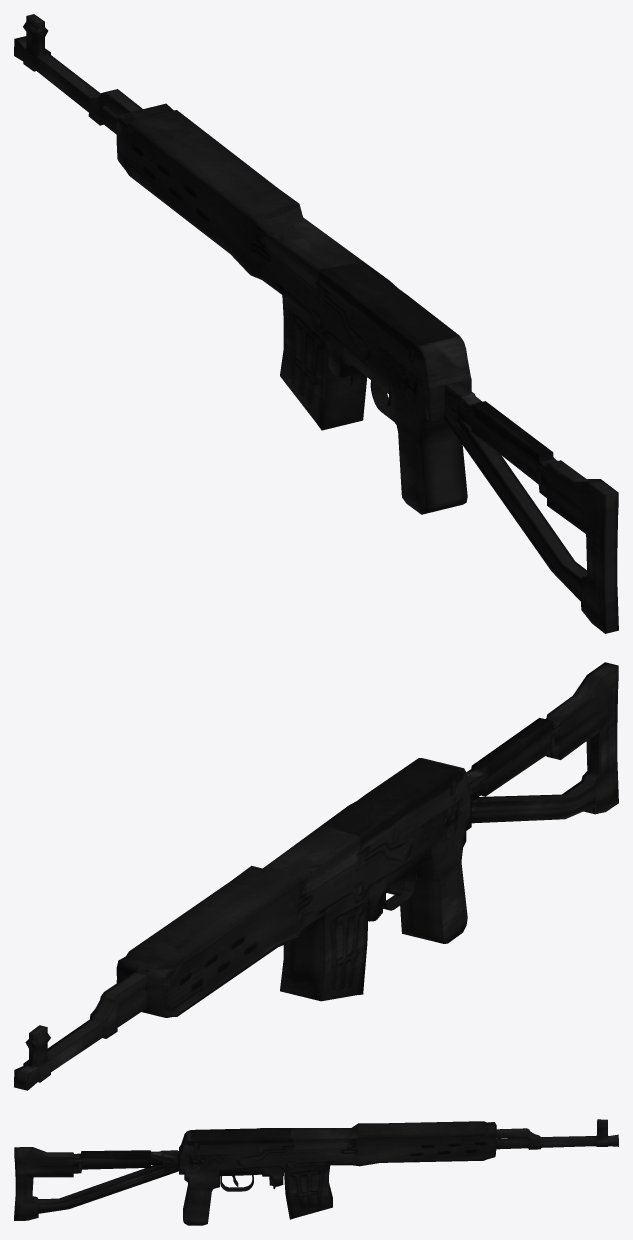
Rendered from rifle.fbx.
3 views of the same model, one above another, from view 1: azimuth 30°, elevation 25°; view 2: azimuth 150°, elevation 25°; view 3: azimuth 270°, elevation 25° (orthographic). The views are drawn at different scales.
Visible parts, largest first — view 1: rifle; view 2: rifle; view 3: rifle.
Boxes of the visible parts, x1,y1,x2,y2 form: rifle: (14,14,618,633); rifle: (14,662,618,1090); rifle: (14,1119,618,1225).
Bounding box in the file's own units: 0.1721 × 0.6678 × 3.68.
Materials: 1 (1 with a texture image).
